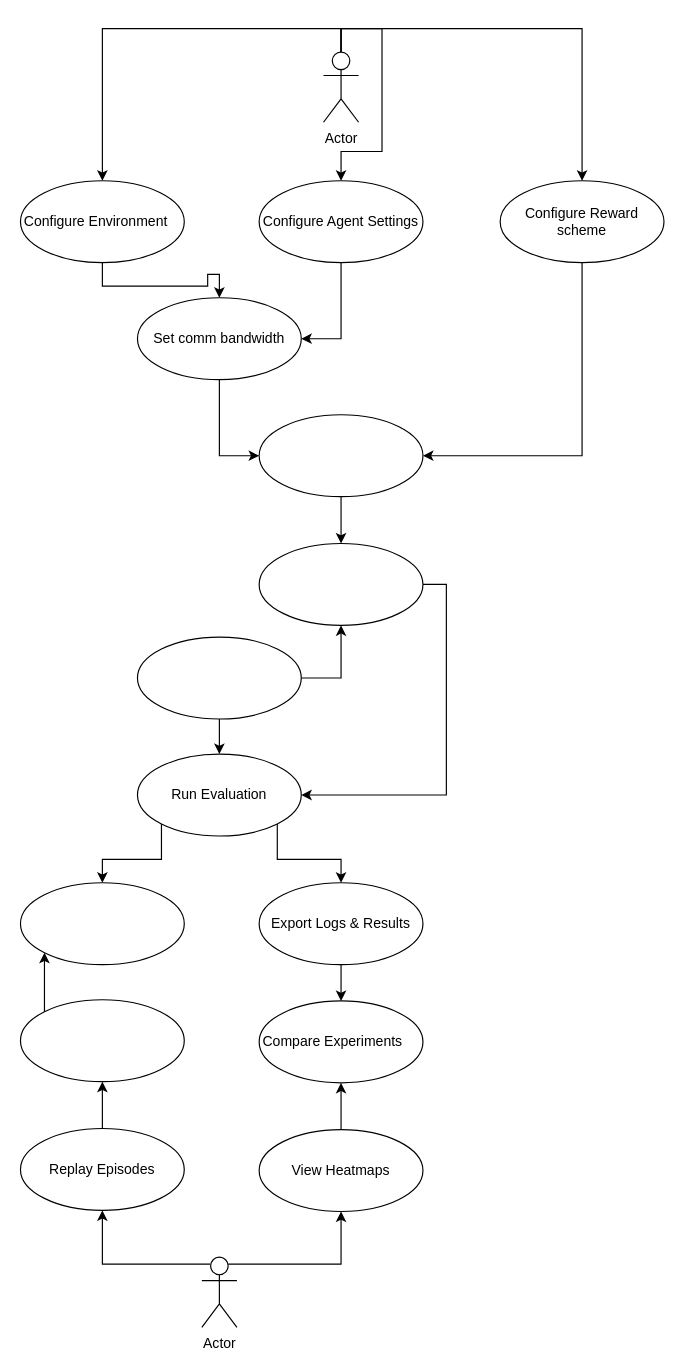
This 684x1372 diagram has some shape labels left out. Here are the shapes that lost their labels. From the top down, the centre of each, then its label:
At point (340, 455): "Load".
At point (340, 583): "Run Training Episodes".
At point (218, 677): "Compute Rewards".
At point (101, 923): "Generate Visual Outputs".
At point (101, 1040): "View Trajectories".
